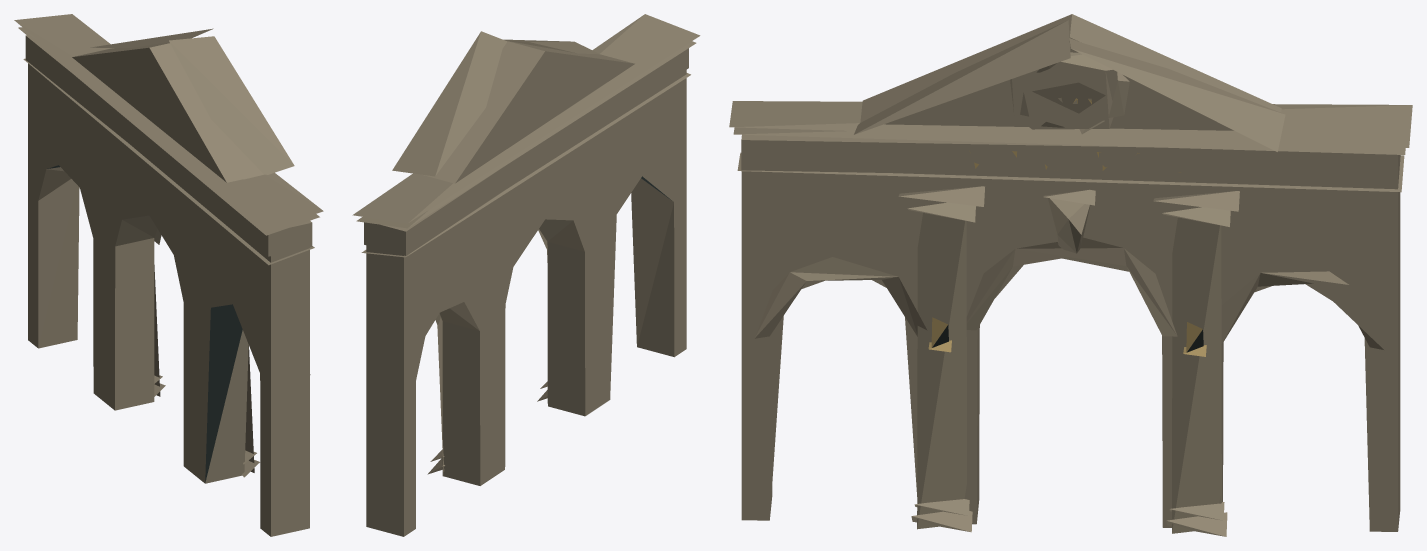
The model's file is voormalige-schouwburgpoort.lod2.glb.
The picture shows the model from 3 angles, left to right: view 1: azimuth 30°, elevation 25°; view 2: azimuth 150°, elevation 25°; view 3: azimuth 270°, elevation 25°; orthographic projection. The views are drawn at different scales.
Parts seen in each view (by area): view 1: lod2; view 2: lod2; view 3: lod2.
Part boxes in pixels (<box>): lod2: <box>14,14,323,536</box>; lod2: <box>352,14,700,536</box>; lod2: <box>729,14,1412,536</box>.
Bounding box in the file's own units: 1.8 × 6.49 × 8.15.
